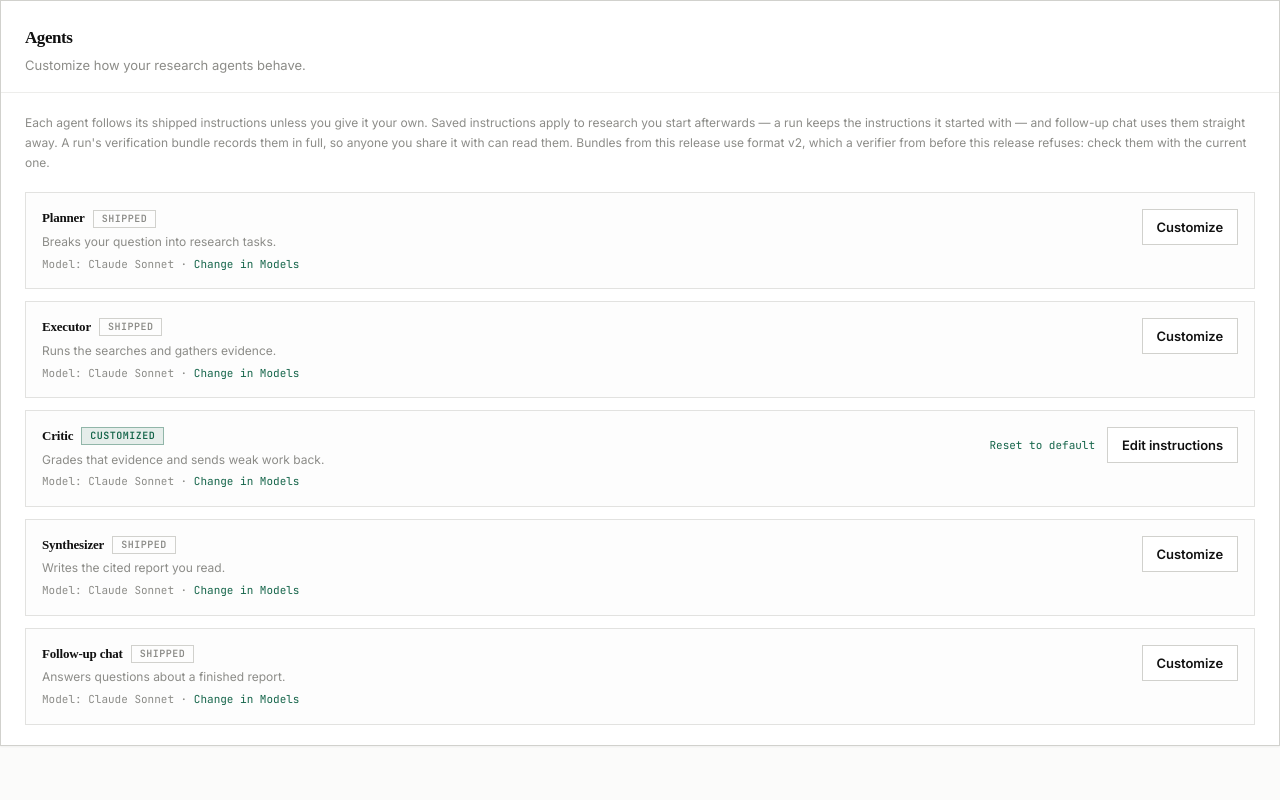
Test: editing › Edit instructions opens that agent's editor on the saved text
Click the button "Edit instructions" at coordinates (1173, 445), box top-left (1107, 427), bottom-right (1238, 463)
(page scrolled)
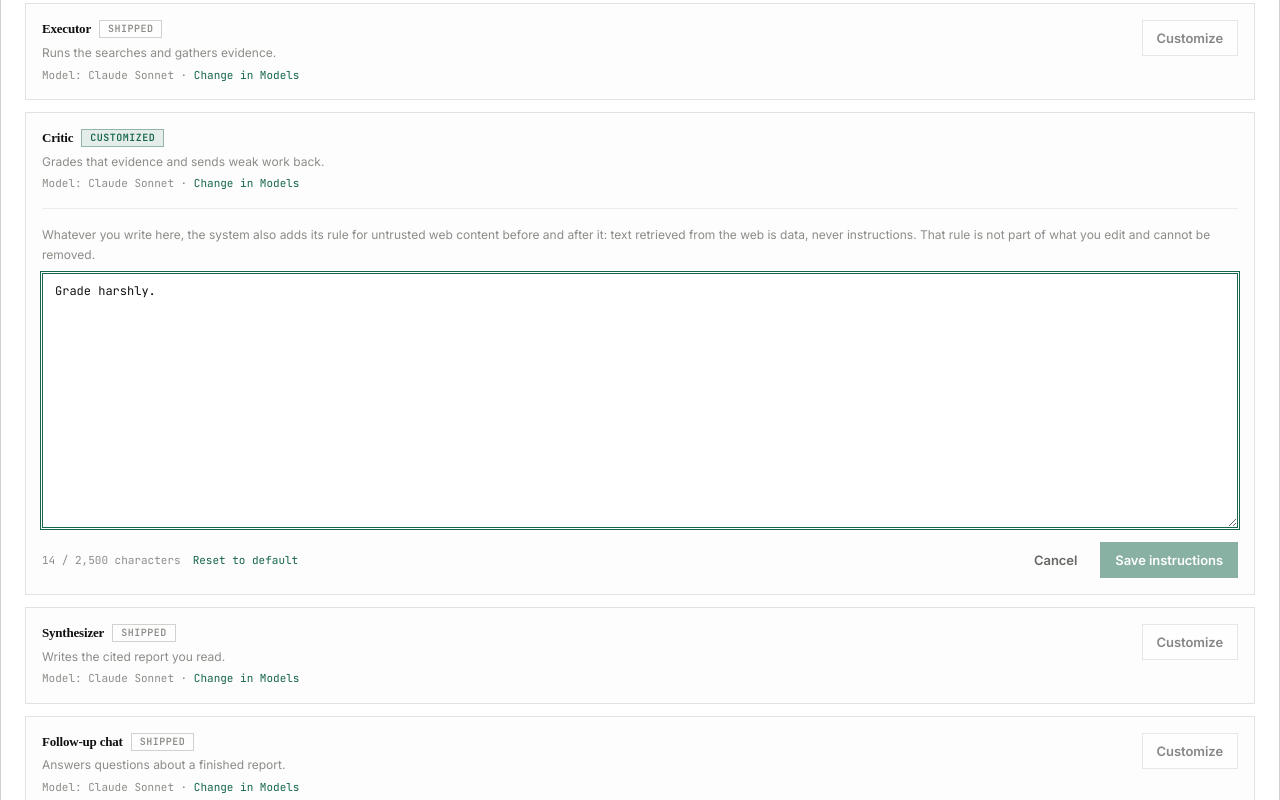
Now the text box named "Instructions for Critic" holds "Grade harshly.", box top-left (42, 272), bottom-right (1238, 528)
